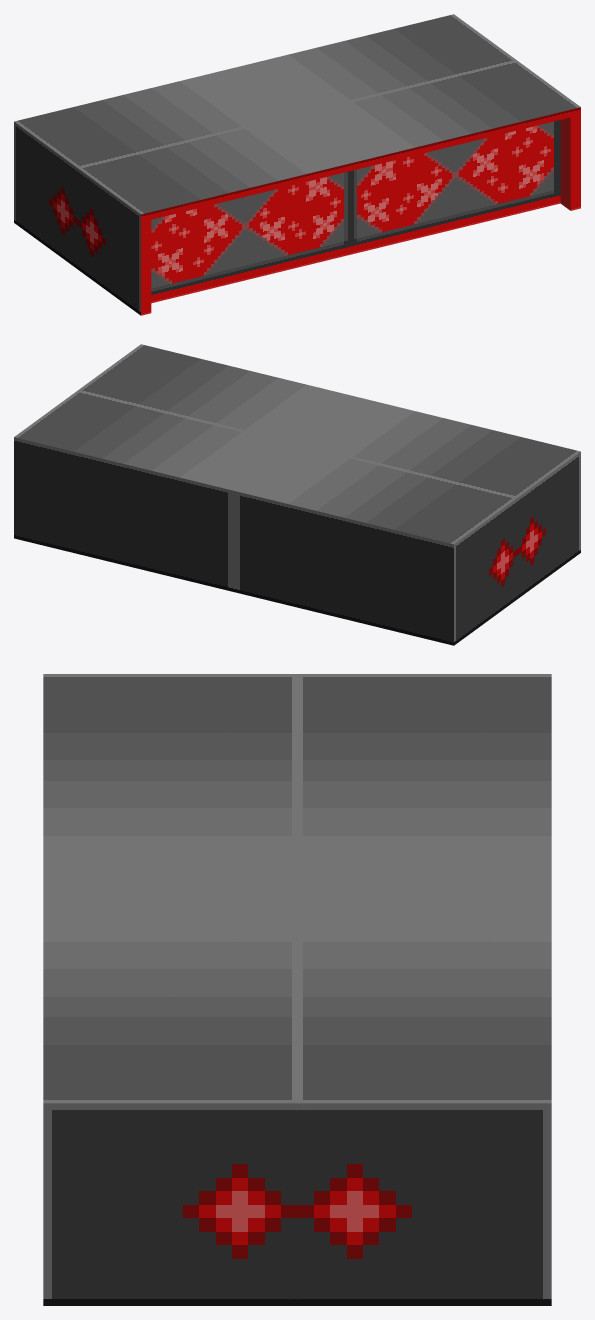
3 renders of one model, top to bottom at view 1: azimuth 30°, elevation 25°; view 2: azimuth 150°, elevation 25°; view 3: azimuth 270°, elevation 25°, orthographic. The views are drawn at different scales.
Parts seen in each view (by area): view 1: 3636kg_case_03; view 2: 3636kg_case_03; view 3: 3636kg_case_03.
Boxes of the visible parts, x1,y1,x2,y2 form: 3636kg_case_03: (14, 14, 580, 315); 3636kg_case_03: (14, 344, 580, 645); 3636kg_case_03: (43, 674, 551, 1305).
Size of the model in its own units: 2 by 0.4399 by 1.
3 materials, 3 textured.
